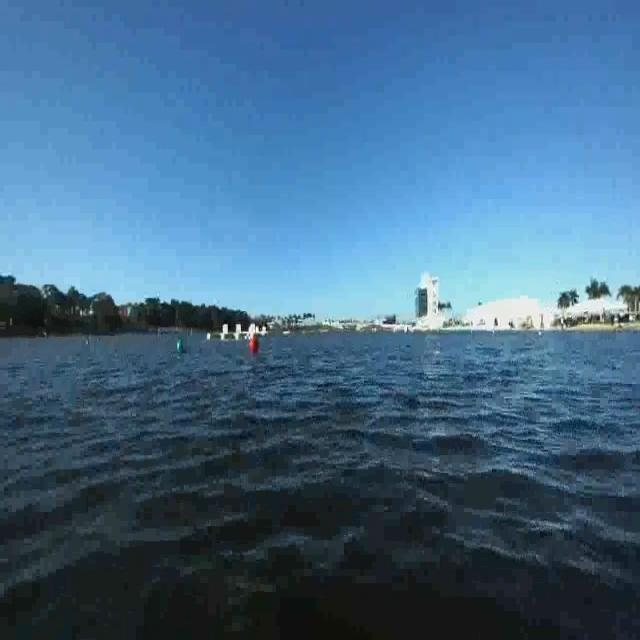green-buoy: (176, 337, 184, 355)
red-buoy: (250, 336, 258, 355)
